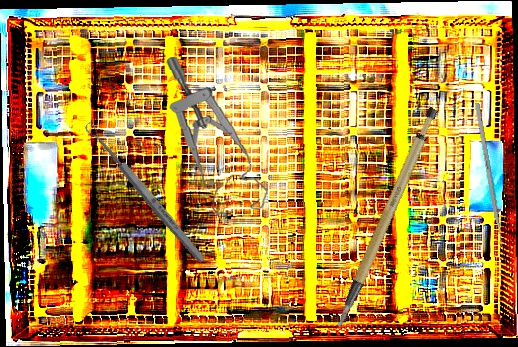Pusher: (474, 102, 507, 259)
Scalpel Handle: (302, 104, 467, 329)
Speculum: (164, 52, 270, 220)
Surgical Spoon: (82, 120, 208, 265)
